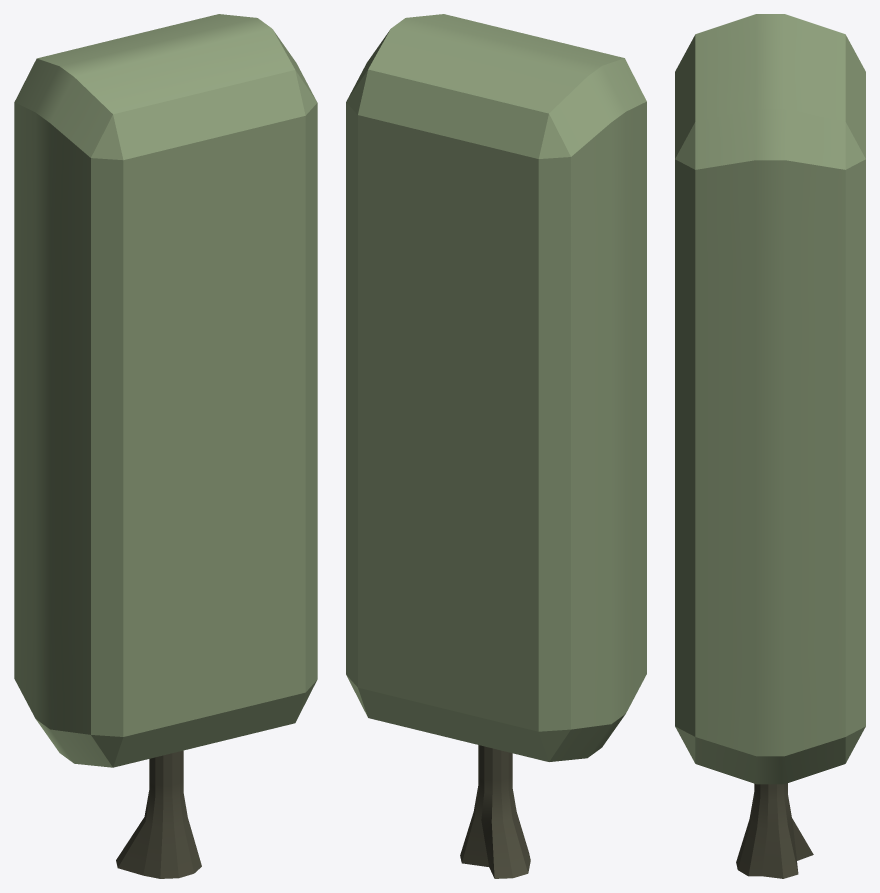
Rendered from HighTree1Dark.fbx.
The picture shows the model from 3 angles, left to right: view 1: azimuth 30°, elevation 25°; view 2: azimuth 150°, elevation 25°; view 3: azimuth 270°, elevation 25°; orthographic projection.
Parts seen in each view (by area): view 1: pasted__Crown_Big, pasted__Bark; view 2: pasted__Crown_Big, pasted__Bark; view 3: pasted__Crown_Big, pasted__Bark.
Boxes of the visible parts, x1,y1,x2,y2 form: pasted__Crown_Big: [14, 14, 317, 767]; pasted__Bark: [116, 750, 201, 878]; pasted__Crown_Big: [346, 14, 646, 761]; pasted__Bark: [460, 745, 530, 878]; pasted__Crown_Big: [675, 14, 865, 784]; pasted__Bark: [736, 783, 813, 878].
Size of the model in its own units: 2.19 by 6.94 by 1.5.
